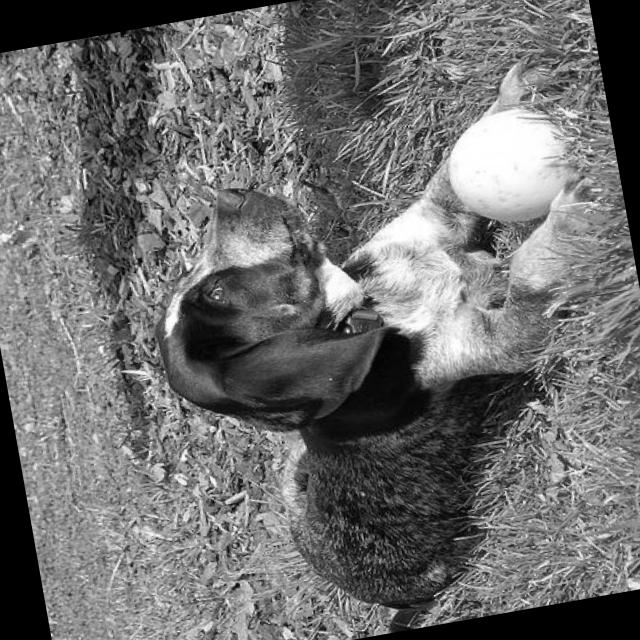laying down: (104, 37, 640, 640)
